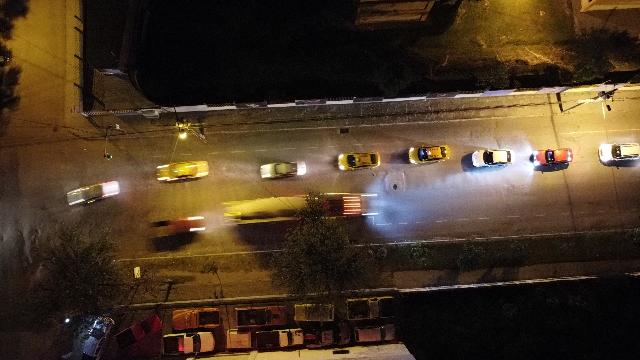Vehiculo: (116, 315, 162, 349), (66, 180, 120, 206), (84, 316, 115, 360), (346, 296, 395, 321), (164, 331, 215, 355), (156, 161, 208, 183), (172, 308, 221, 331), (236, 306, 286, 328), (598, 143, 640, 167), (256, 329, 304, 349), (260, 161, 306, 179), (408, 144, 449, 164), (530, 148, 572, 166), (338, 152, 380, 170), (355, 324, 395, 342), (472, 150, 514, 166)
